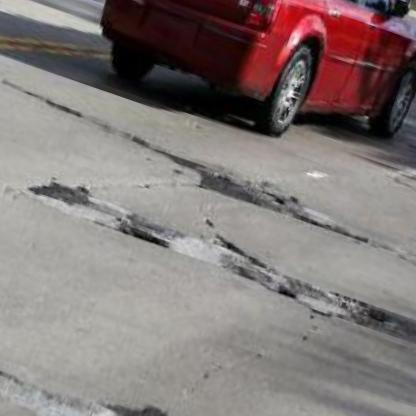pothole: (267, 266, 416, 371), (187, 153, 342, 233), (72, 383, 347, 416), (111, 211, 172, 250)
